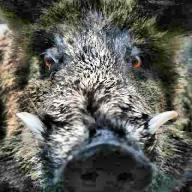boar: (16, 16, 192, 192)
